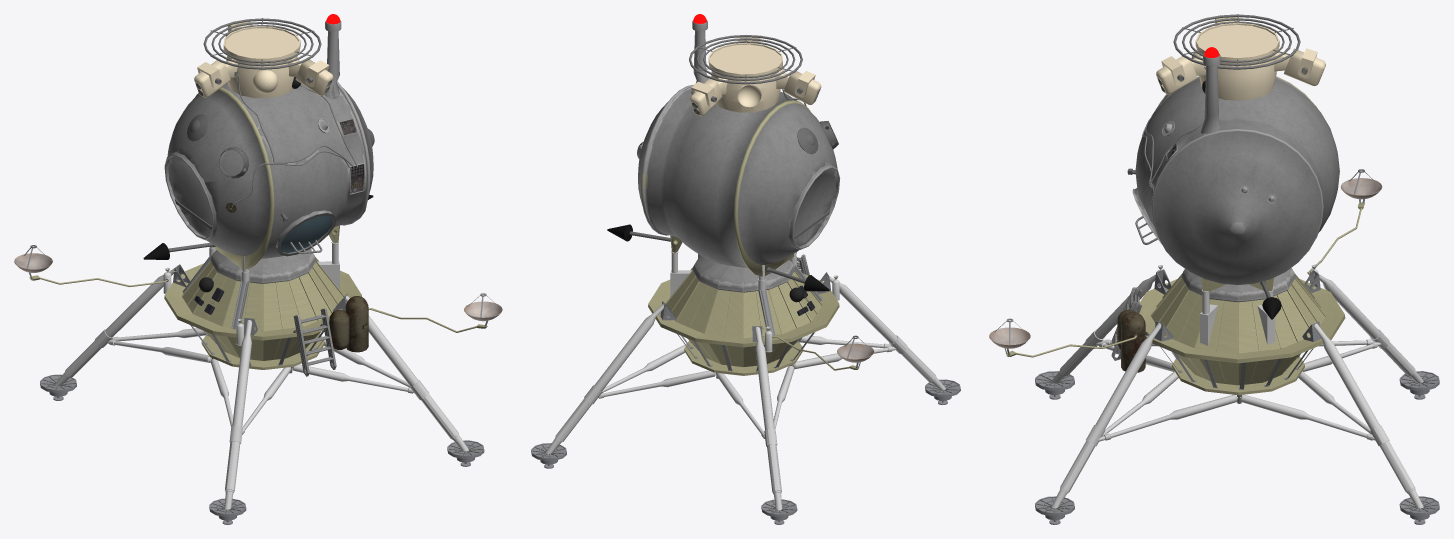
File: lunar1.glb
3 renders of one model, left to right at view 1: azimuth 30°, elevation 25°; view 2: azimuth 150°, elevation 25°; view 3: azimuth 270°, elevation 25°, orthographic. The views are drawn at different scales.
Parts seen in each view (by area): view 1: defaultMaterial; view 2: defaultMaterial; view 3: defaultMaterial.
Boxes of the visible parts, bbox=[...] form: defaultMaterial: bbox=[14, 14, 502, 524]; defaultMaterial: bbox=[531, 14, 960, 524]; defaultMaterial: bbox=[989, 14, 1439, 524].
Bounding box in the file's own units: 1.64 × 2 × 1.84.
1 material, 1 textured.
